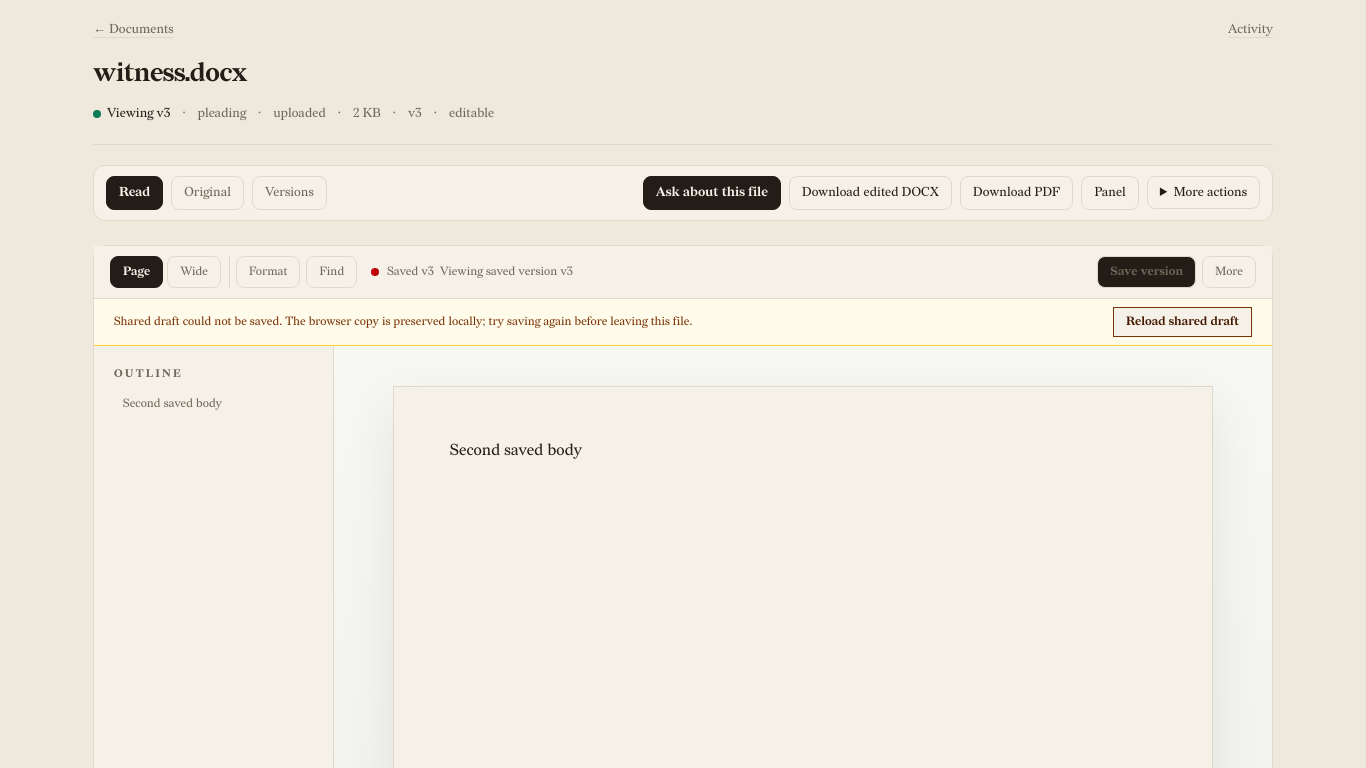
DocumentDetail — viewer › lets the reader switch between saved versions and extracted text
Expected: the text "Viewing saved version v3" is shown, [440,264,573,280]
Step 1. Click the button "Versions" → (289, 193), box [252,176,327,210]
(page scrolled)
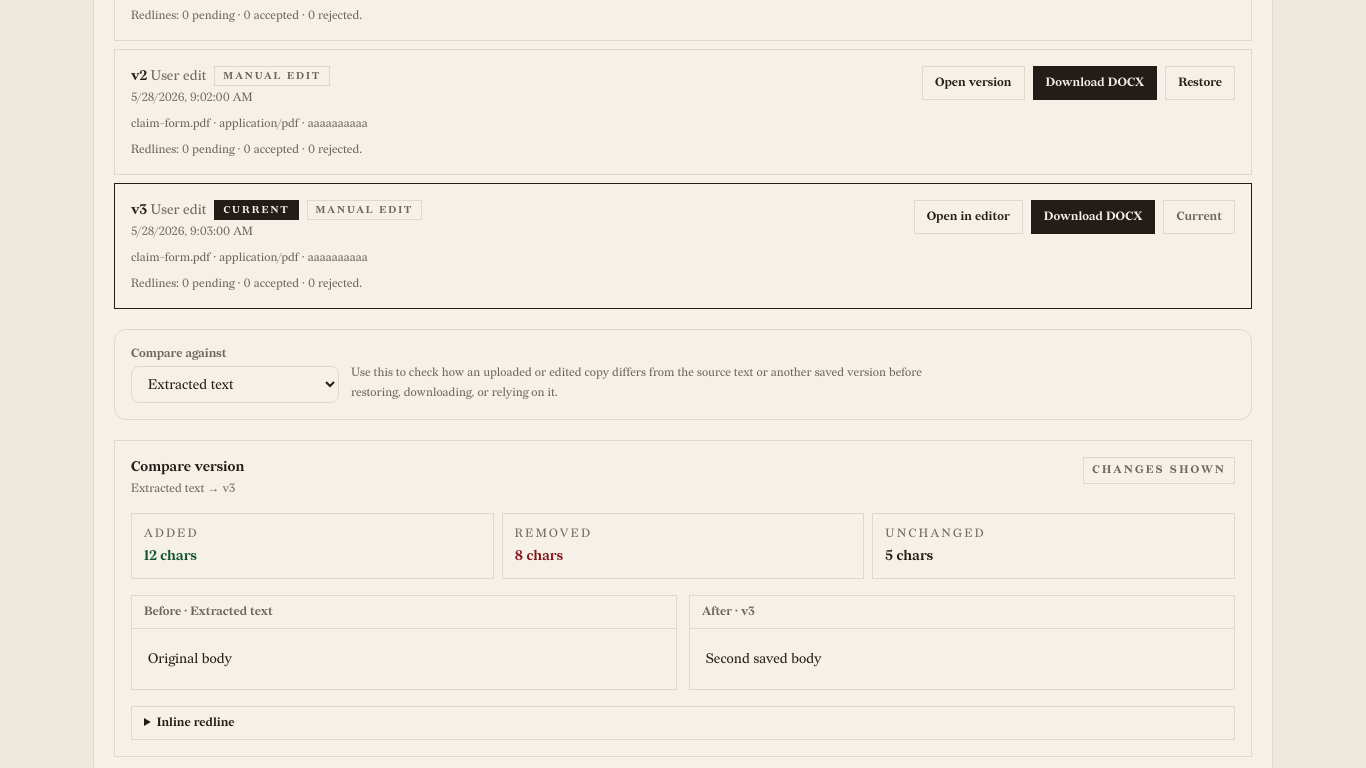
Result: the dropdown labelled "Compare against" shows "Extracted text"
Result: the text "Added" is shown at [144,526,199,541]
Result: the text "Removed" is shown at [515,526,592,541]
Step 2. Select "v2" in the dropdown labelled "Compare against" → (235, 385), box [131,366,339,403]
(page scrolled)
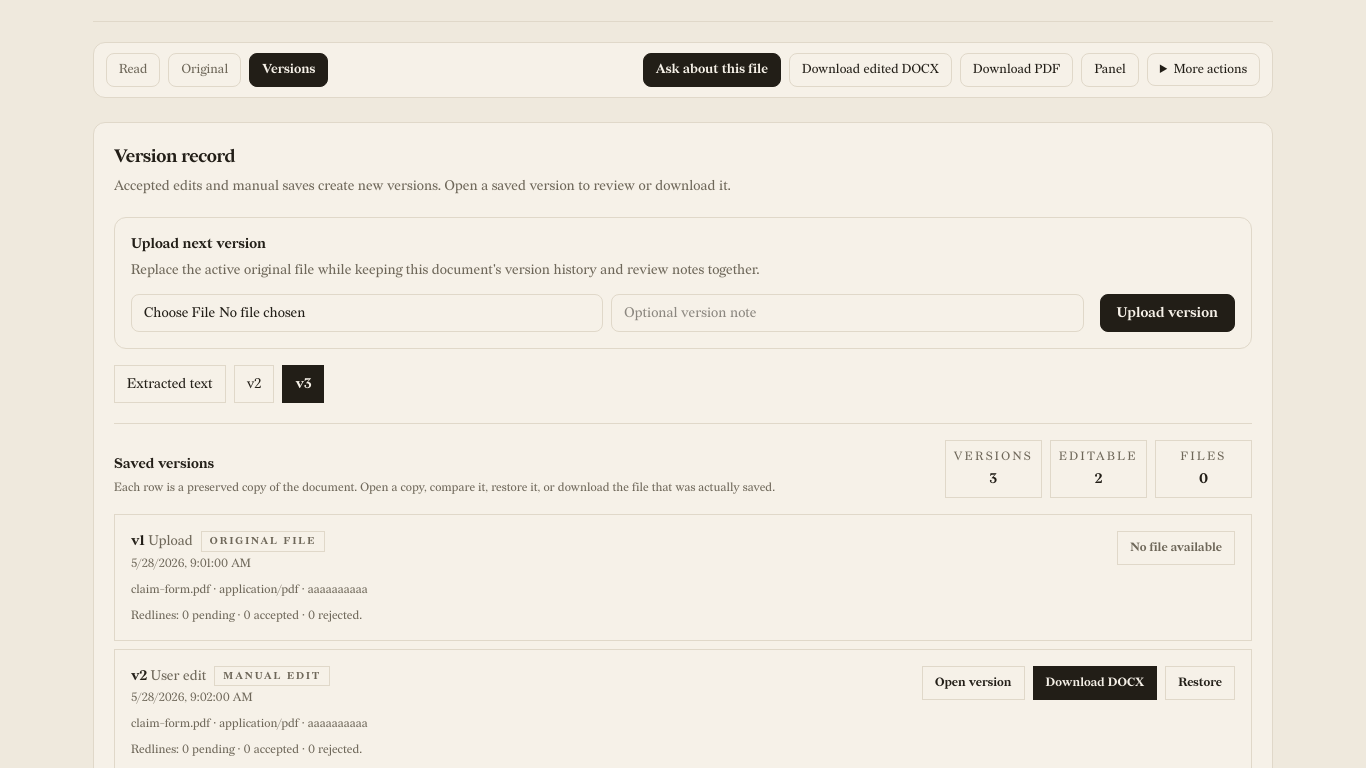
Step 3. Click the button "v2" → (254, 384), box [234,365,274,403]
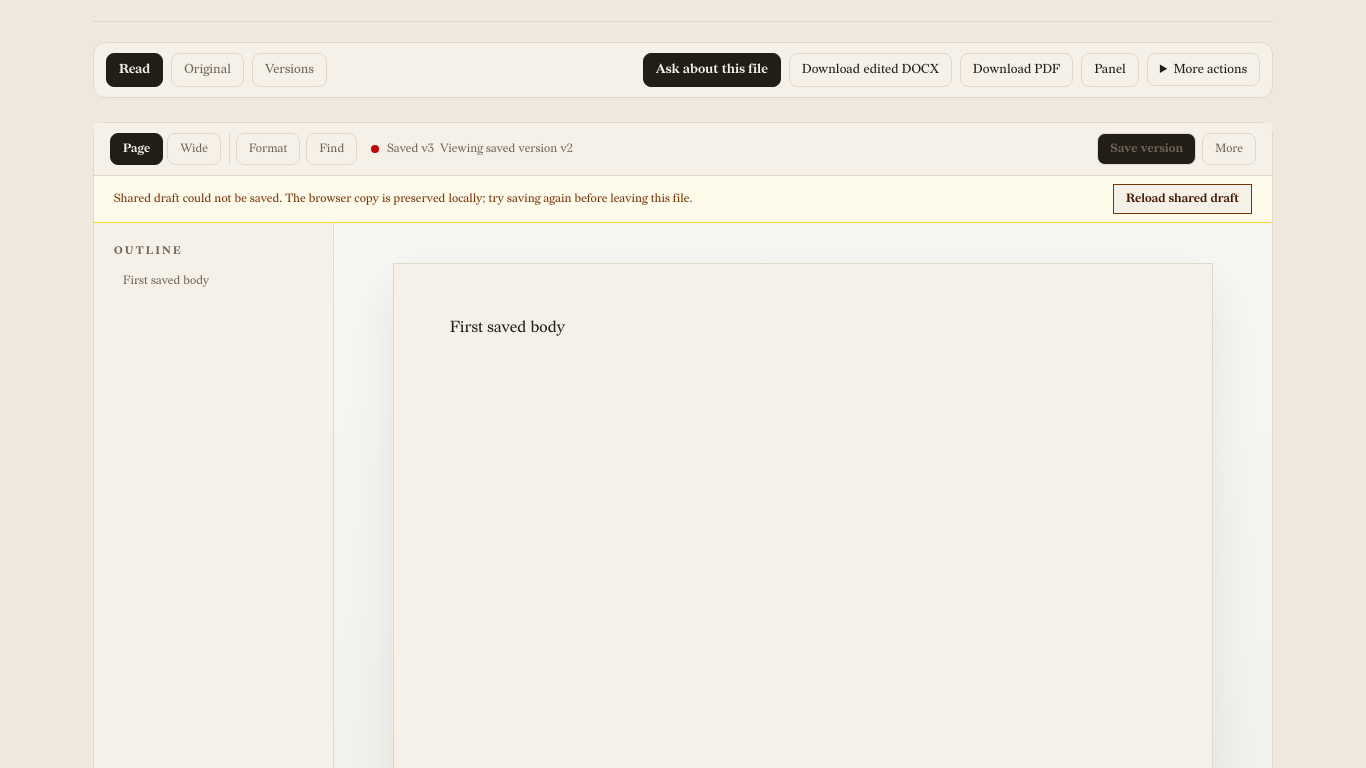
Result: the text "Viewing saved version v2" is shown at [440,141,573,157]
Step 4. Click the button "Versions" → (289, 70), box [252,53,327,87]
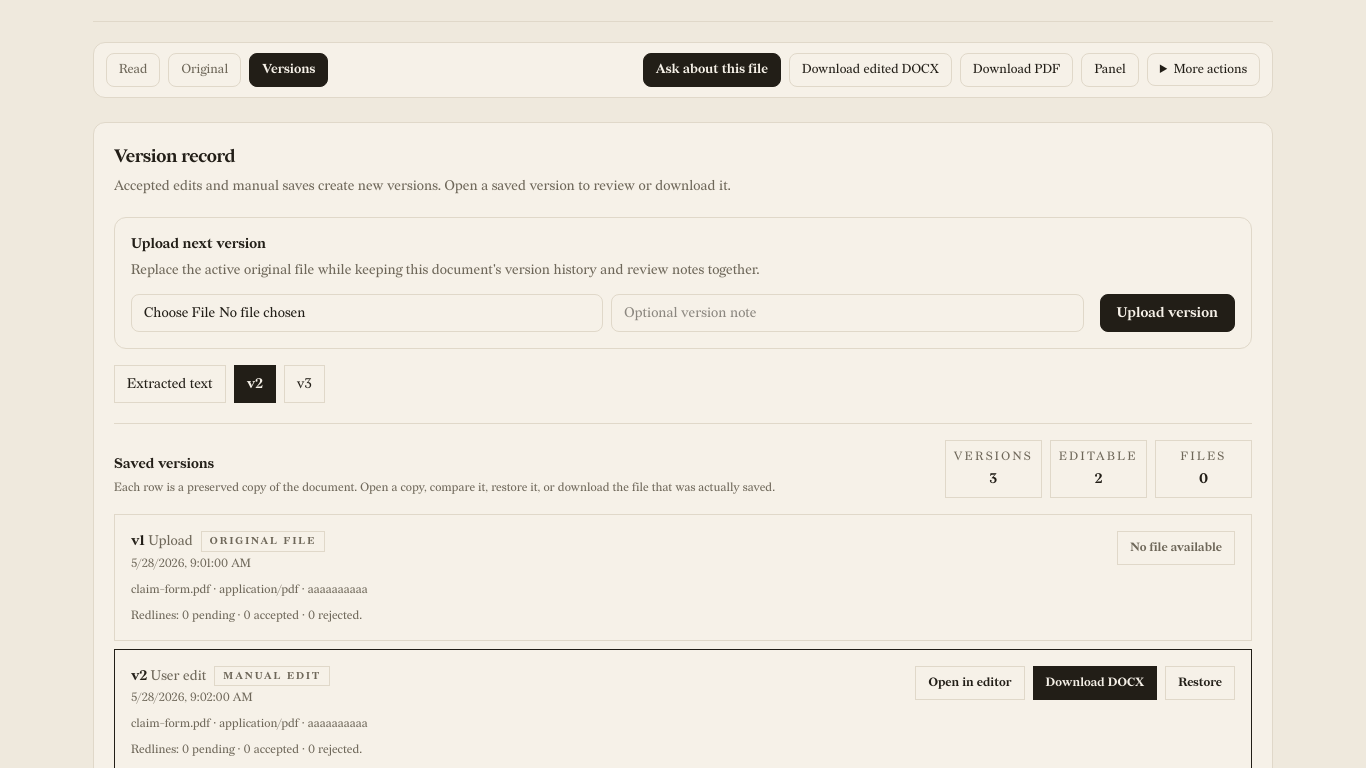
Step 5. Click the button "Extracted text" → (170, 384), box [114,365,226,403]
(page scrolled)
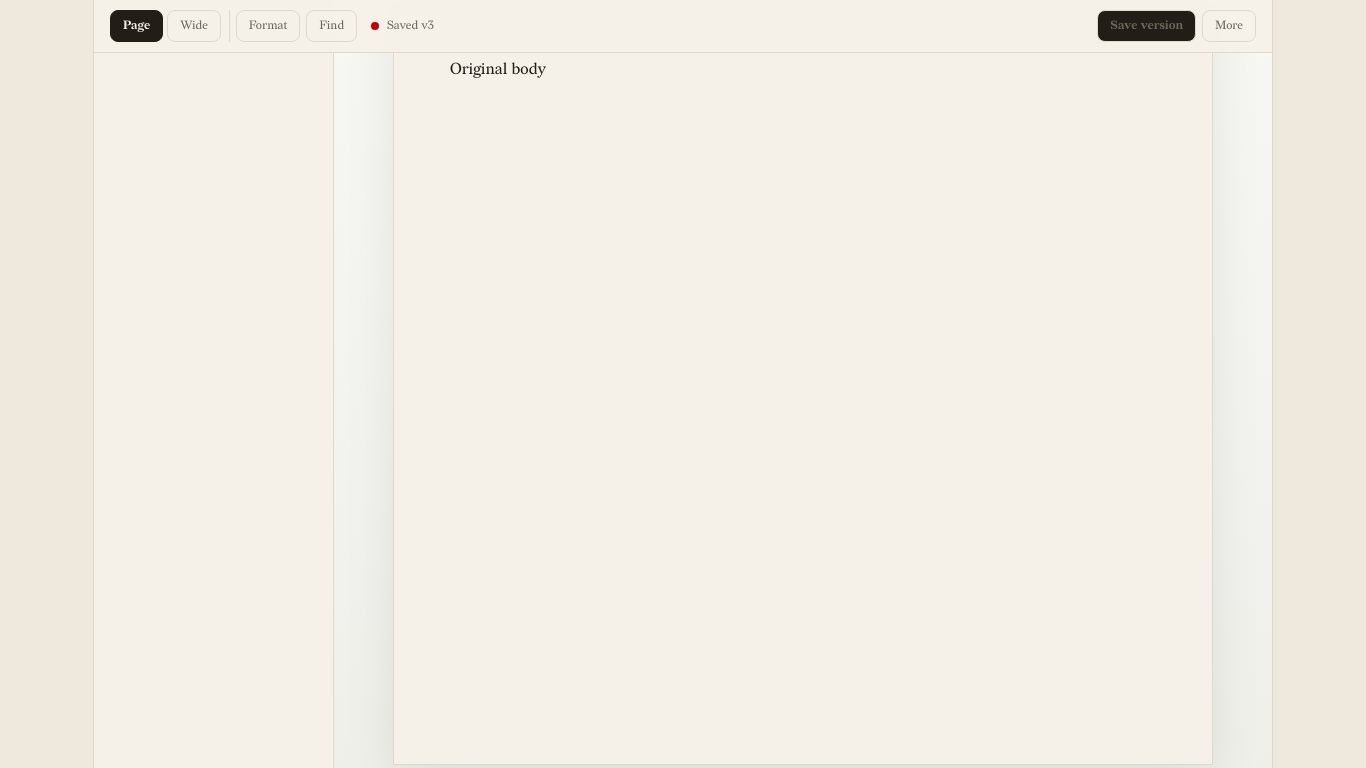
Result: the field with class "legalise-document-editor" reads "Original body" at [393,5,1213,765]
Result: the link with test id "document-download-edited-docx" is gone
Result: the link with test id "document-download-edited-pdf" is gone
